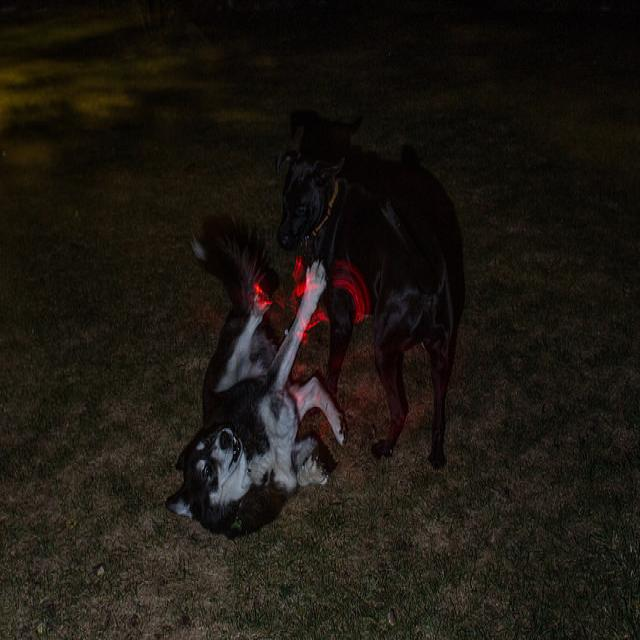Dog: (157, 180, 459, 584), (237, 110, 467, 456)
